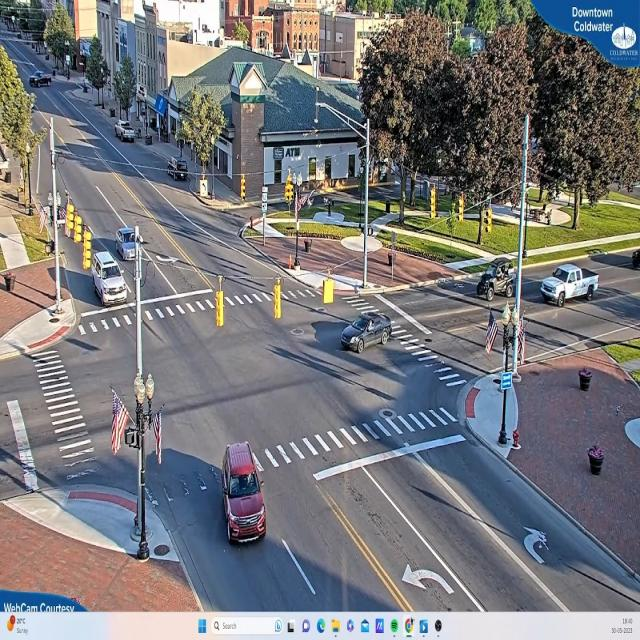car: (218, 446, 268, 542), (542, 264, 599, 306), (91, 245, 128, 306), (342, 313, 393, 352), (476, 256, 514, 304), (116, 226, 142, 263), (165, 159, 189, 180), (116, 123, 136, 143)
